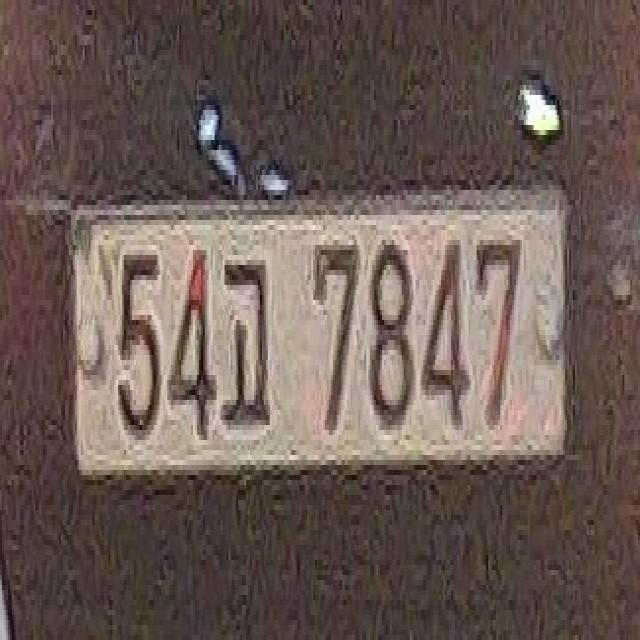4: (162, 230, 218, 470), (422, 230, 471, 440)
5: (110, 220, 166, 440)
7: (471, 230, 534, 440), (312, 235, 361, 450)
8: (364, 245, 422, 440)
go: (212, 250, 280, 430)
license_plate: (69, 165, 569, 505)
